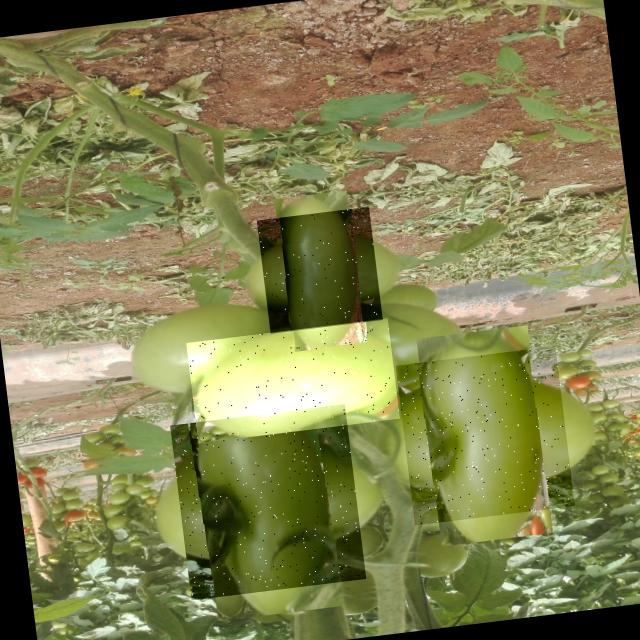Unripe Tomato: (170, 403, 366, 600), (396, 346, 574, 525), (186, 318, 400, 443), (256, 206, 382, 333)
